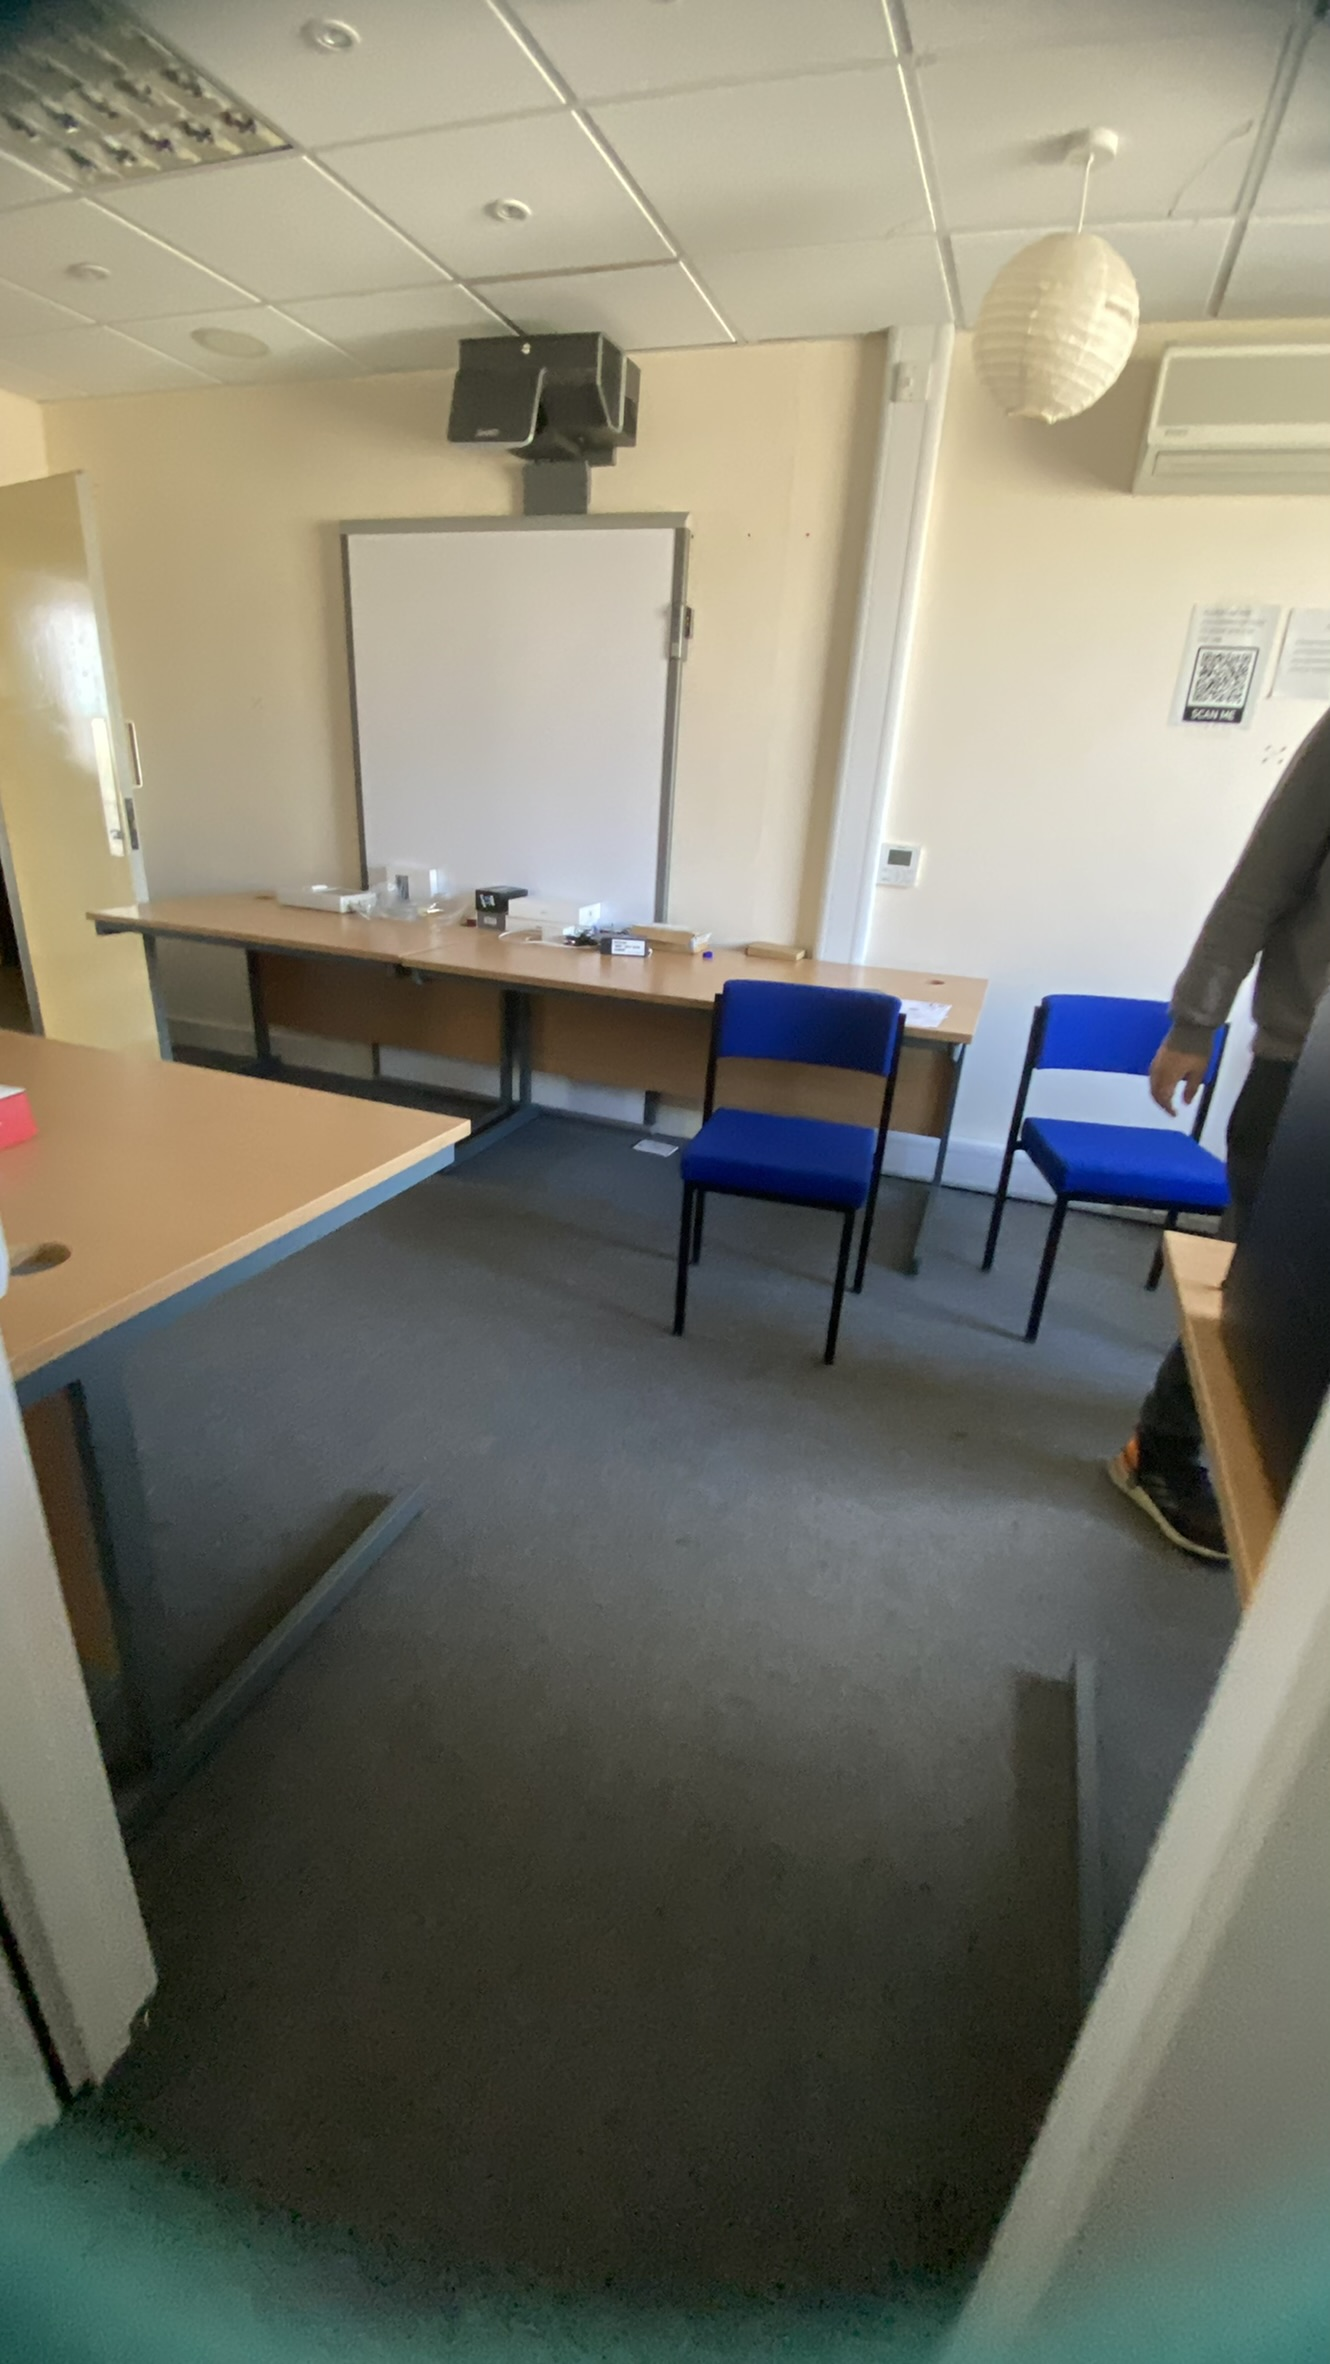chair: (969, 968, 1224, 1413), (674, 964, 898, 1367)
door: (11, 456, 193, 1059)
table: (8, 1015, 589, 2012), (84, 844, 987, 1301)
